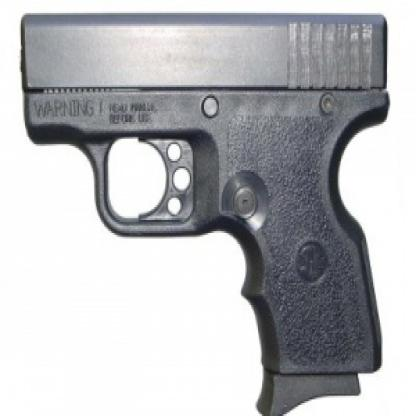Guns: (14, 2, 414, 414)
